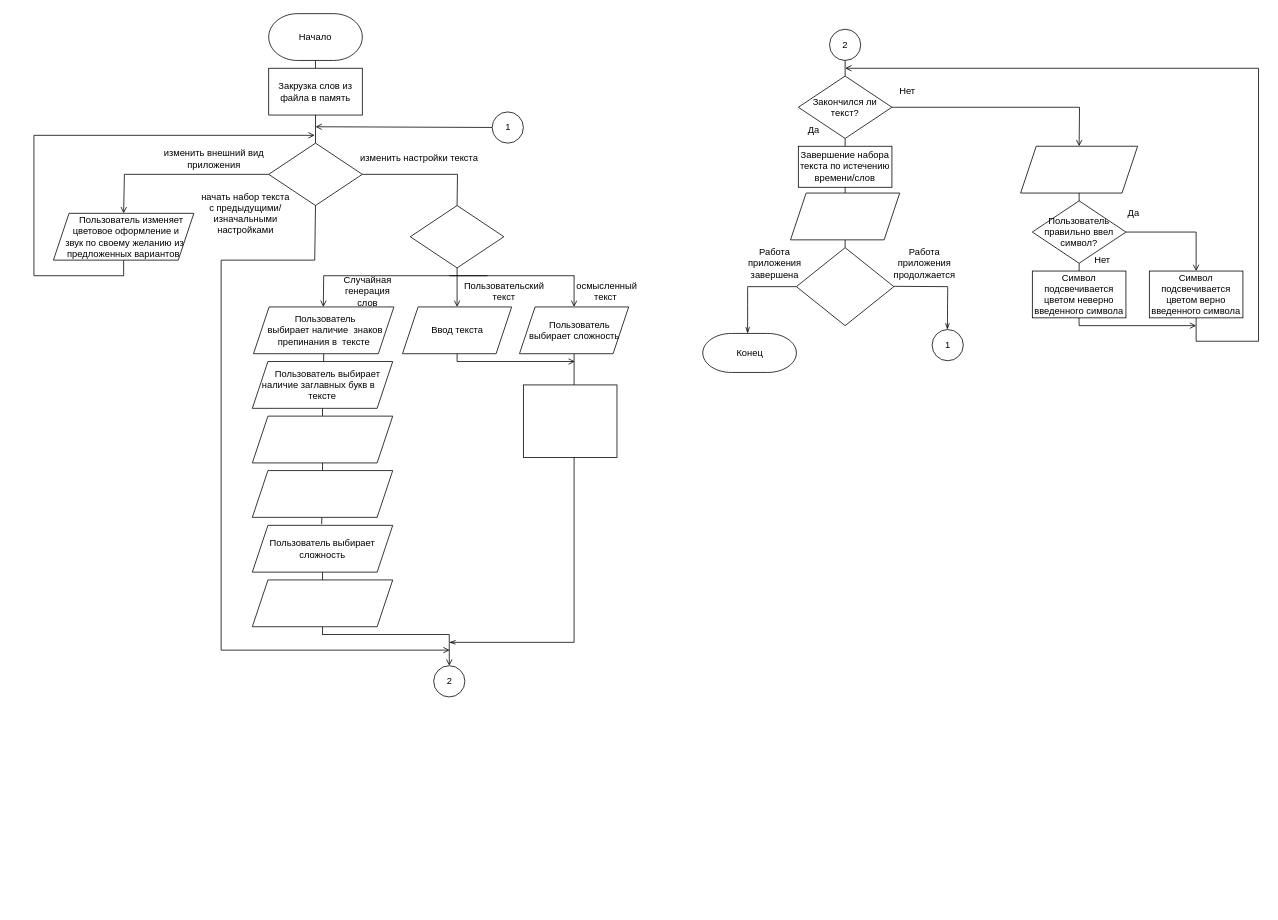
Image size: 1278x920. Some labels were removed from this diagram. The centre of each missing label's shape, as x and y in pixels:
Выбор типа текста: [457,236]
Вывод статистики по тексту: [845,216]
завершить ли работу приложения: [845,286]
Пользователь вводит символ: [1079,169]
Пользователь выбирает наличие спец. символов в тексте: [322,439]
Пользователь выбирает наличие цифр в тексте: [322,493]
Пользователь выбирает способ завершения набора текста: [322,603]
Пользователь выбирает функцию приложения: [315,174]
Способ завершения текста автоматически поставлен на "с ограничем по словам": [570,420]
